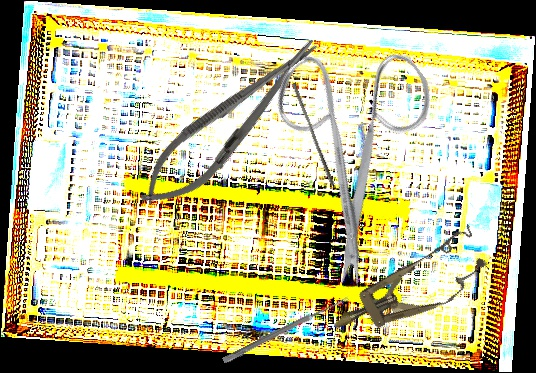Iris Scissors: (219, 6, 502, 294)
Needle Holder: (125, 23, 335, 224)
Pusher: (288, 82, 339, 186)
Speculum: (321, 223, 496, 354)
Surgical Spoon: (222, 294, 350, 365)
